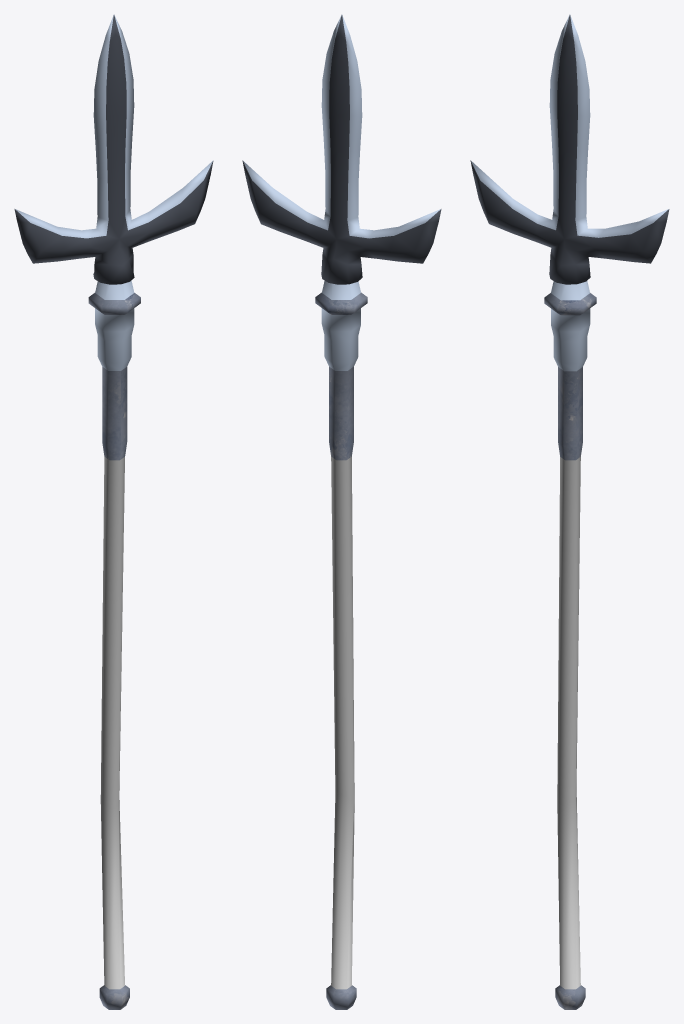
The model's file is Weapon_1.fbx.
3 views of the same model, side by side, from view 1: azimuth 30°, elevation 25°; view 2: azimuth 150°, elevation 25°; view 3: azimuth 330°, elevation 25° (orthographic).
Parts seen in each view (by area): view 1: Weapon_1; view 2: Weapon_1; view 3: Weapon_1.
Part boxes in pixels (<box>): Weapon_1: <box>14,14,213,1009</box>; Weapon_1: <box>242,14,441,1009</box>; Weapon_1: <box>470,14,669,1009</box>.
Size of the model in its own units: 0.3371 by 1.6 by 0.0766.
